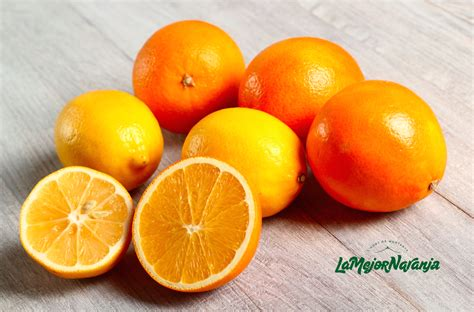orange: (305, 76, 449, 213), (129, 17, 249, 135), (230, 33, 367, 130)
